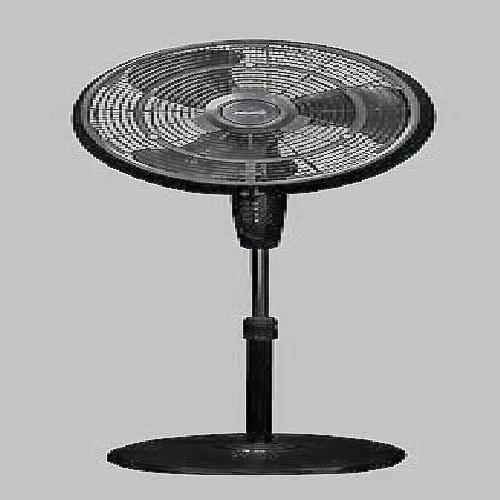fan: (72, 50, 429, 467)
